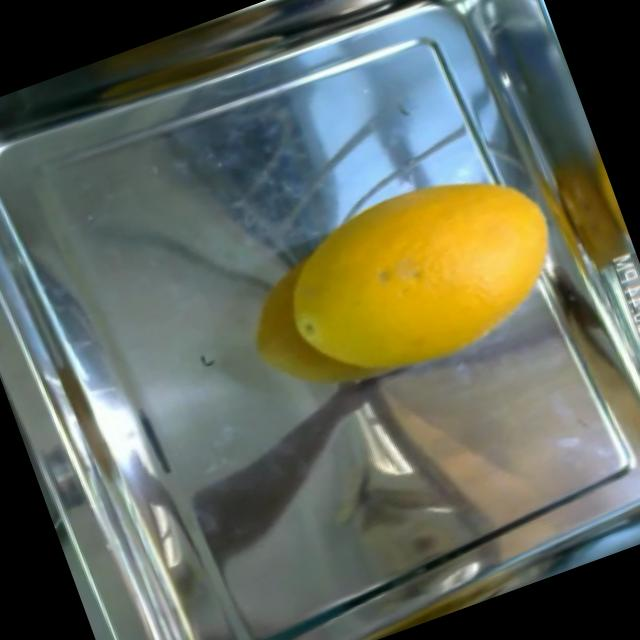Fruit: (335, 144, 594, 390)
